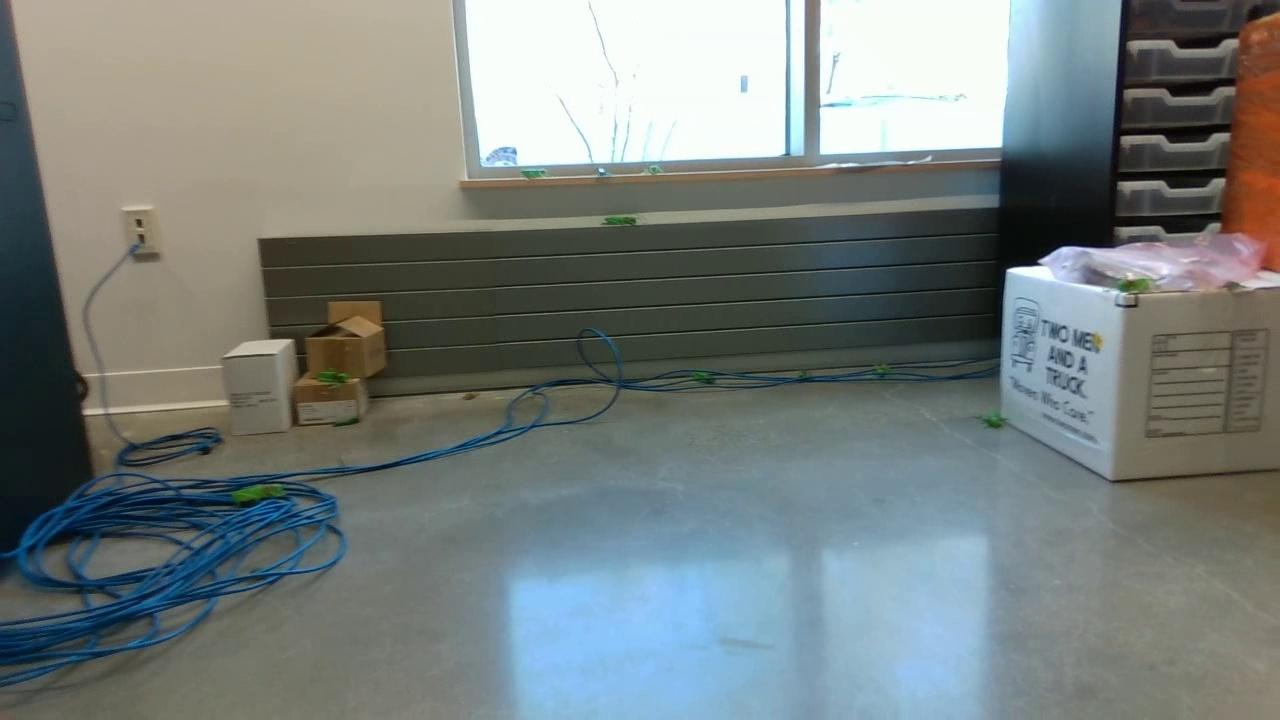grasshopper: (1111, 274, 1158, 300), (979, 409, 1009, 432), (688, 367, 723, 386), (601, 215, 646, 228), (863, 357, 893, 376), (518, 168, 551, 178), (641, 162, 666, 173)
